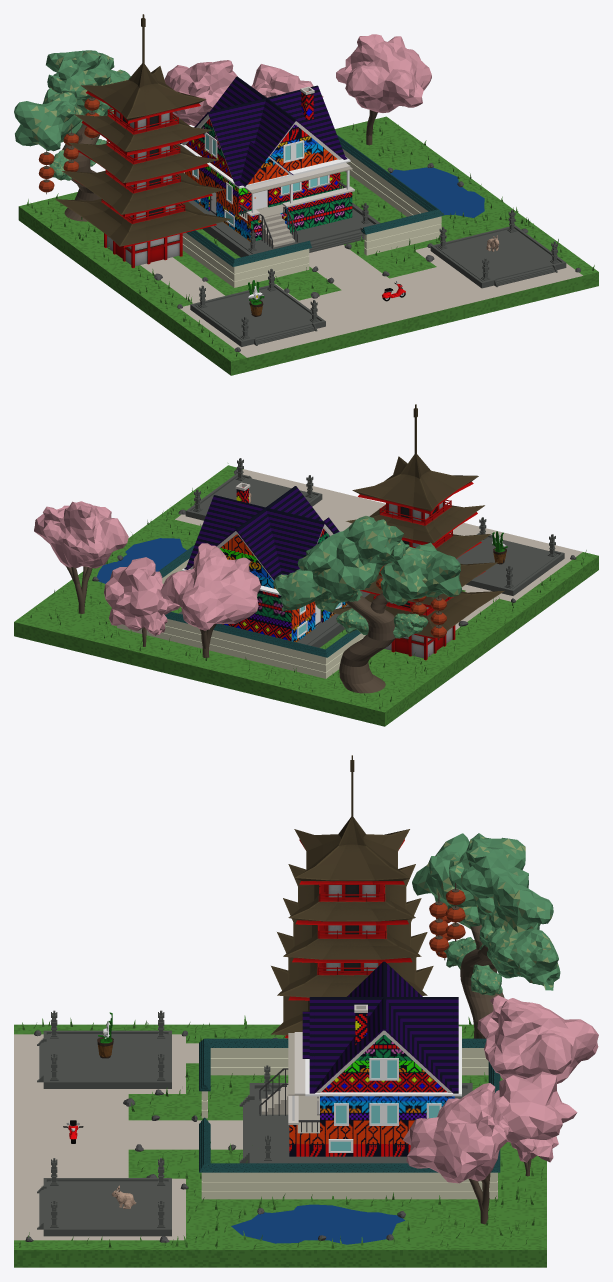
3 renders of one model, top to bottom at view 1: azimuth 30°, elevation 25°; view 2: azimuth 150°, elevation 25°; view 3: azimuth 270°, elevation 25°, orthographic. The views are drawn at different scales.
Visible parts, largest first — view 1: Cube.005, Cube.966; view 2: Cube.005, Cube.966; view 3: Cube.005, Cube.966.
Part boxes in pixels (box(x1,y1,x2,y2)): Cube.005: box(14, 14, 598, 375); Cube.966: box(179, 76, 354, 248); Cube.005: box(14, 404, 598, 726); Cube.966: box(181, 482, 347, 642); Cube.005: box(14, 755, 598, 1267); Cube.966: box(259, 961, 461, 1156).
Size of the model in its own units: 4528 by 2791 by 4389.
Materials: 46 (9 with a texture image).
